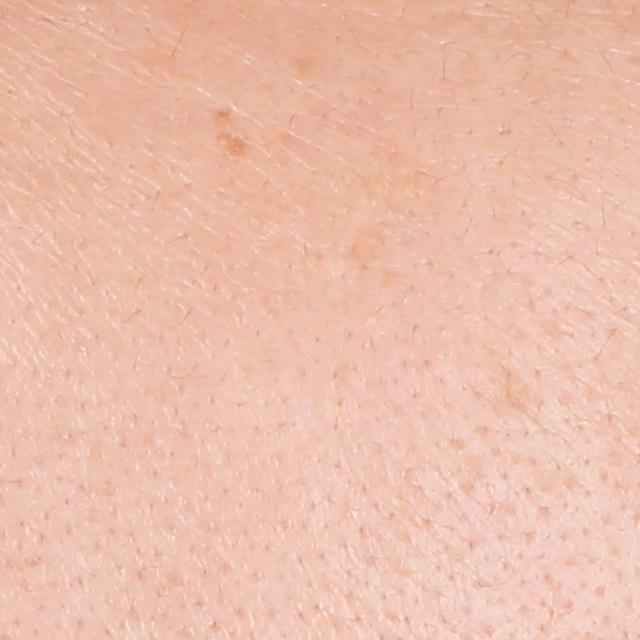melasma: (213, 103, 250, 166)
